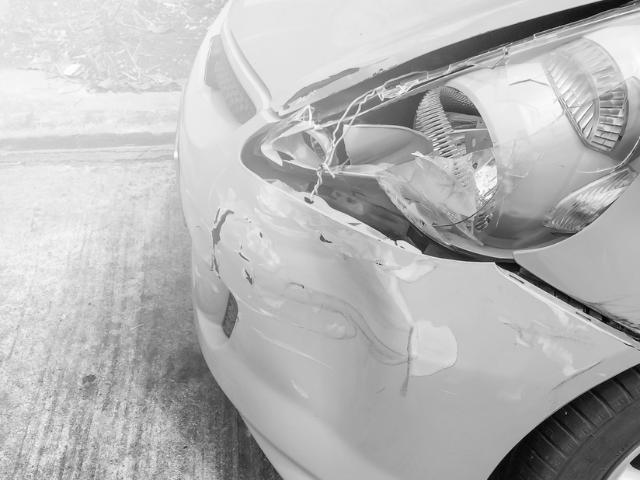Bumper: (183, 196, 423, 446)
Light: (296, 97, 614, 225)
